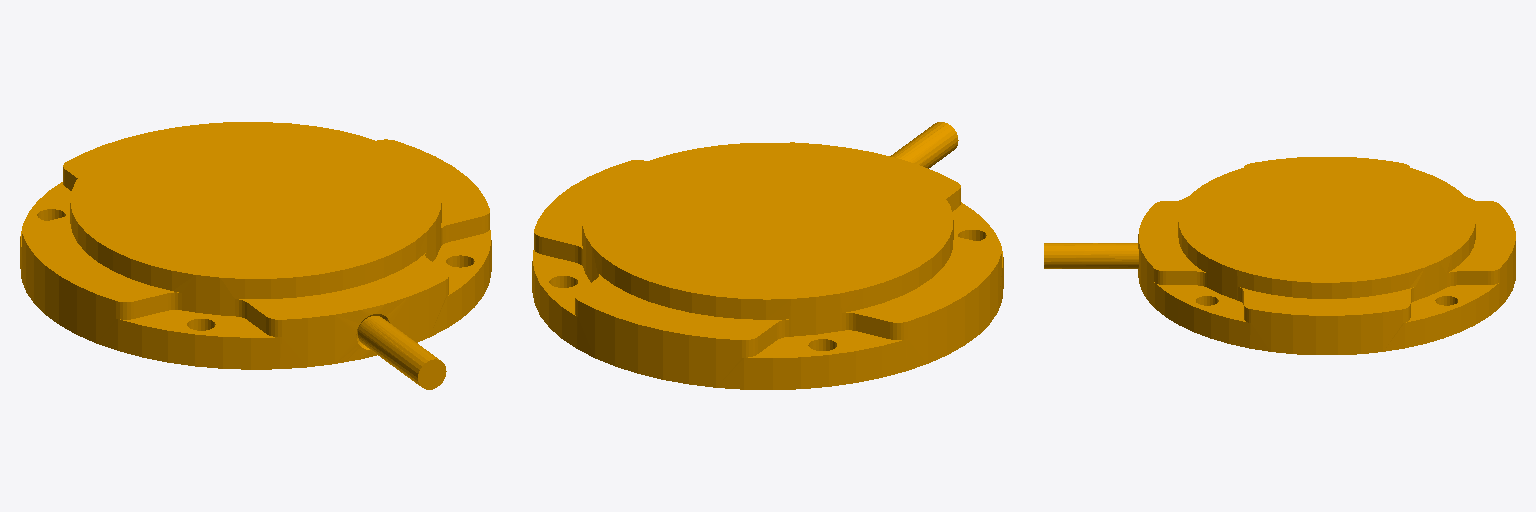
The robot description file, URDF, robot "ur5bh":
<?xml version="1.0" ?>
<!-- =================================================================================== -->
<!-- |    This document was autogenerated by xacro from ur5bh.urdf.xacro               | -->
<!-- |    EDITING THIS FILE BY HAND IS NOT RECOMMENDED                                 | -->
<!-- =================================================================================== -->
<robot name="ur5bh">
  
  <link name="base_link">
    <visual>
      <geometry>
        <mesh filename="package://ur_description/meshes/ur5/visual/base.dae"/>
      </geometry>
      
    </visual>
    <inertial>
      <mass value="4.0"/>
      <origin rpy="0 0 0" xyz="0.0 0.0 0.0"/>
      <inertia ixx="0.00443333156" ixy="0.0" ixz="0.0" iyy="0.00443333156" iyz="0.0" izz="0.0072"/>
    </inertial>
  </link>
  <joint name="shoulder_pan_joint" type="revolute">
    <parent link="base_link"/>
    <child link="shoulder_link"/>
    <origin rpy="0.0 0.0 0.0" xyz="0.0 0.0 0.089159"/>
    <axis xyz="0 0 1"/>
    <limit effort="150.0" lower="-3.141592653589793" upper="3.141592653589793" velocity="3.15"/>
    <!-- <dynamics damping="0.0" friction="0.0"/> -->
  </joint>
  <link name="shoulder_link">
    <visual>
      <geometry>
        <mesh filename="package://ur_description/meshes/ur5/visual/shoulder.dae"/>
      </geometry>
      
    </visual>
    <inertial>
      <mass value="3.7"/>
      <origin rpy="0 0 0" xyz="0.0 0.0 0.0"/>
      <inertia ixx="0.010267495893" ixy="0.0" ixz="0.0" iyy="0.010267495893" iyz="0.0" izz="0.00666"/>
    </inertial>
  </link>
  <joint name="shoulder_lift_joint" type="revolute">
    <parent link="shoulder_link"/>
    <child link="upper_arm_link"/>
    <origin rpy="0.0 1.5707963267948966 0.0" xyz="0.0 0.13585 0.0"/>
    <axis xyz="0 1 0"/>
    <limit effort="150.0" lower="-3.141592653589793" upper="3.141592653589793" velocity="3.15"/>
    <!-- <dynamics damping="0.0" friction="0.0"/> -->
  </joint>
  <link name="upper_arm_link">
    <visual>
      <geometry>
        <mesh filename="package://ur_description/meshes/ur5/visual/upperarm.dae"/>
      </geometry>
      
    </visual>
    <inertial>
      <mass value="8.393"/>
      <origin rpy="0 0 0" xyz="0.0 0.0 0.28"/>
      <inertia ixx="0.22689067591036005" ixy="0.0" ixz="0.0" iyy="0.22689067591036005" iyz="0.0" izz="0.0151074"/>
    </inertial>
  </link>
  <joint name="elbow_joint" type="revolute">
    <parent link="upper_arm_link"/>
    <child link="forearm_link"/>
    <origin rpy="0.0 0.0 0.0" xyz="0.0 -0.1197 0.425"/>
    <axis xyz="0 1 0"/>
    <limit effort="150.0" lower="-3.141592653589793" upper="3.141592653589793" velocity="3.15"/>
    <!-- <dynamics damping="0.0" friction="0.0"/> -->
  </joint>
  <link name="forearm_link">
    <visual>
      <geometry>
        <mesh filename="package://ur_description/meshes/ur5/visual/forearm.dae"/>
      </geometry>
      
    </visual>
    <inertial>
      <mass value="2.275"/>
      <origin rpy="0 0 0" xyz="0.0 0.0 0.196125"/>
      <inertia ixx="0.03121679102890359" ixy="0.0" ixz="0.0" iyy="0.03121679102890359" iyz="0.0" izz="0.004095"/>
    </inertial>
  </link>
  <joint name="wrist_1_joint" type="revolute">
    <parent link="forearm_link"/>
    <child link="wrist_1_link"/>
    <origin rpy="0.0 1.5707963267948966 0.0" xyz="0.0 0.0 0.39225"/>
    <axis xyz="0 1 0"/>
    <limit effort="28.0" lower="-3.141592653589793" upper="3.141592653589793" velocity="3.2"/>
    <!-- <dynamics damping="0.0" friction="0.0"/> -->
  </joint>
  <link name="wrist_1_link">
    <visual>
      <geometry>
        <mesh filename="package://ur_description/meshes/ur5/visual/wrist1.dae"/>
      </geometry>
      
    </visual>
    <inertial>
      <mass value="1.219"/>
      <origin rpy="0 0 0" xyz="0.0 0.093 0.0"/>
      <inertia ixx="0.0025598989760400002" ixy="0.0" ixz="0.0" iyy="0.0025598989760400002" iyz="0.0" izz="0.0021942"/>
    </inertial>
  </link>
  <joint name="wrist_2_joint" type="revolute">
    <parent link="wrist_1_link"/>
    <child link="wrist_2_link"/>
    <origin rpy="0.0 0.0 0.0" xyz="0.0 0.093 0.0"/>
    <axis xyz="0 0 1"/>
    <limit effort="28.0" lower="-3.141592653589793" upper="3.141592653589793" velocity="3.2"/>
    <!-- <dynamics damping="0.0" friction="0.0"/> -->
  </joint>
  <link name="wrist_2_link">
    <visual>
      <geometry>
        <mesh filename="package://ur_description/meshes/ur5/visual/wrist2.dae"/>
      </geometry>
      
    </visual>
    <inertial>
      <mass value="1.219"/>
      <origin rpy="0 0 0" xyz="0.0 0.0 0.09465"/>
      <inertia ixx="0.0025598989760400002" ixy="0.0" ixz="0.0" iyy="0.0025598989760400002" iyz="0.0" izz="0.0021942"/>
    </inertial>
  </link>
  <joint name="wrist_3_joint" type="revolute">
    <parent link="wrist_2_link"/>
    <child link="wrist_3_link"/>
    <origin rpy="0.0 0.0 0.0" xyz="0.0 0.0 0.09465"/>
    <axis xyz="0 1 0"/>
    <limit effort="28.0" lower="-3.141592653589793" upper="3.141592653589793" velocity="3.2"/>
    <!-- <dynamics damping="0.0" friction="0.0"/> -->
  </joint>
  <link name="wrist_3_link">
    <visual>
      <geometry>
        <mesh filename="package://ur_description/meshes/ur5/visual/wrist3.dae"/>
      </geometry>
      
    </visual>
    <inertial>
      <mass value="0.1879"/>
      <origin rpy="1.5707963267948966 0 0" xyz="0.0 0.06505 0.0"/>
      <inertia ixx="8.469589112163e-05" ixy="0.0" ixz="0.0" iyy="8.469589112163e-05" iyz="0.0" izz="0.0001321171875"/>
    </inertial>
  </link>
  <joint name="ee_fixed_joint" type="fixed">
    <parent link="wrist_3_link"/>
    <child link="ee_link"/>
    <origin rpy="0.0 0.0 1.5707963267948966" xyz="0.0 0.0823 0.0"/>
  </joint>
  <link name="ee_link">
  </link>


  <link name="world"/>
  <joint name="world_joint" type="fixed">
    <parent link="world"/>
    <child link="base_link"/>
    <origin rpy="0.0 0.0 0.0" xyz="0.0 0.0 0.0"/>
  </joint>
  <joint name="bh_base_joint" type="fixed">
    <origin rpy="0.0 1.57079632679 0" xyz="0.0 0.0 0.0"/>
    <insert_block name="origin"/>
    <parent link="ee_link"/>
    <child link="bh_base_link"/>
  </joint>
  <!-- HAND BASE_LINK (RED) -->
  <link name="bh_base_link">
    <inertial>
      <mass value="1.0"/>
      <origin xyz="0 0 0"/>
      <inertia ixx="1.0" ixy="0.0" ixz="0.0" iyy="1.0" iyz="0.0" izz="1.0"/>
    </inertial>
    <visual>
      <origin rpy="0 0 0" xyz="0 0 0"/>
      <geometry>
        <mesh filename="package://bhand_description/meshes/dae/palm_282.dae"/>
      </geometry>
    </visual>
  </link>
  <link name="EndEffort"/>
    <joint name="EE_joint" type="fixed">
    <origin xyz="0 -0.06 0.02"/>
    <parent link="bh_base_link"/>
    <child link="EndEffort"/>
  </joint>


</robot>

--- What the picture shows (computed from the rendered views, not written in the file) ---
Views: 3 orthographic renders of the robot side by side, from view 1: azimuth 30°, elevation 25°; view 2: azimuth 150°, elevation 25°; view 3: azimuth 270°, elevation 25°.
Model ur5bh with 11 links and 10 joints (6 revolute, 4 fixed), rooted at world, posed every joint at zero.
Visible links, largest first — view 1: base_link; view 2: base_link; view 3: base_link.
Boxes of the visible links, x1=… form: base_link: x1=20, y1=122, x2=491, y2=389; base_link: x1=532, y1=122, x2=1003, y2=389; base_link: x1=1044, y1=157, x2=1515, y2=354.
Bounding box of the posed robot: 0.1467 × 0.1834 × 0.024 m (x, y, z).
Meshes: 8 distinct files referenced, 1 mesh visuals loaded (1 Collada DAE); not drawn: 7 (reference not matched to a file when rendering).